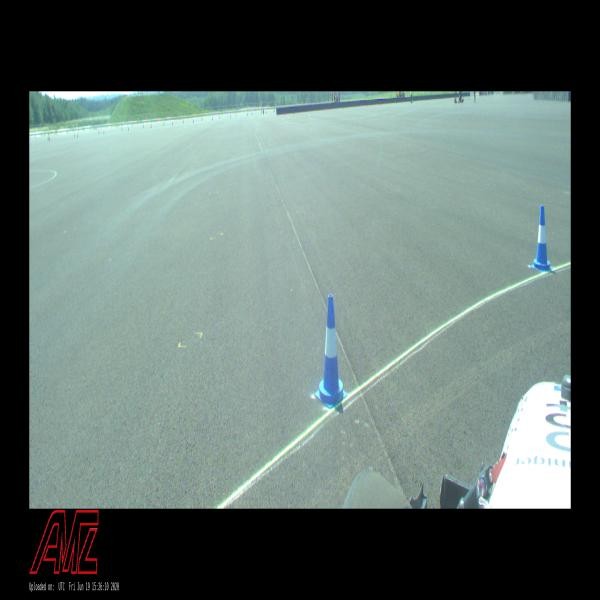blue_cone: (314, 295, 348, 409), (531, 205, 553, 274)
